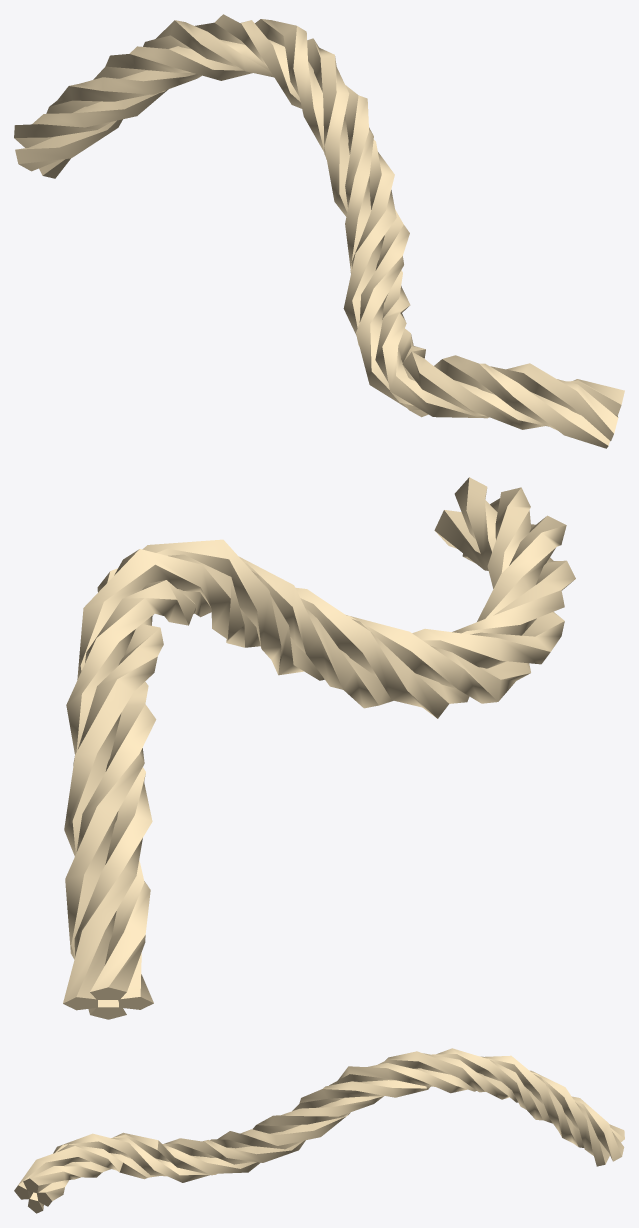
The model's file is Four_Side_Rope_Curved.fbx.
3 views of the same model, one above another, from view 1: azimuth 30°, elevation 25°; view 2: azimuth 150°, elevation 25°; view 3: azimuth 270°, elevation 25° (orthographic). The views are drawn at different scales.
Visible parts, largest first — view 1: sweep7; view 2: sweep7; view 3: sweep7.
Part boxes in pixels (box(x1,y1,x2,y2)): sweep7: box(14, 14, 624, 448); sweep7: box(63, 477, 575, 1019); sweep7: box(14, 1048, 624, 1213).
Bounding box in the file's own units: 6.43 × 7.07 × 25.54.
1 material, 1 textured.
